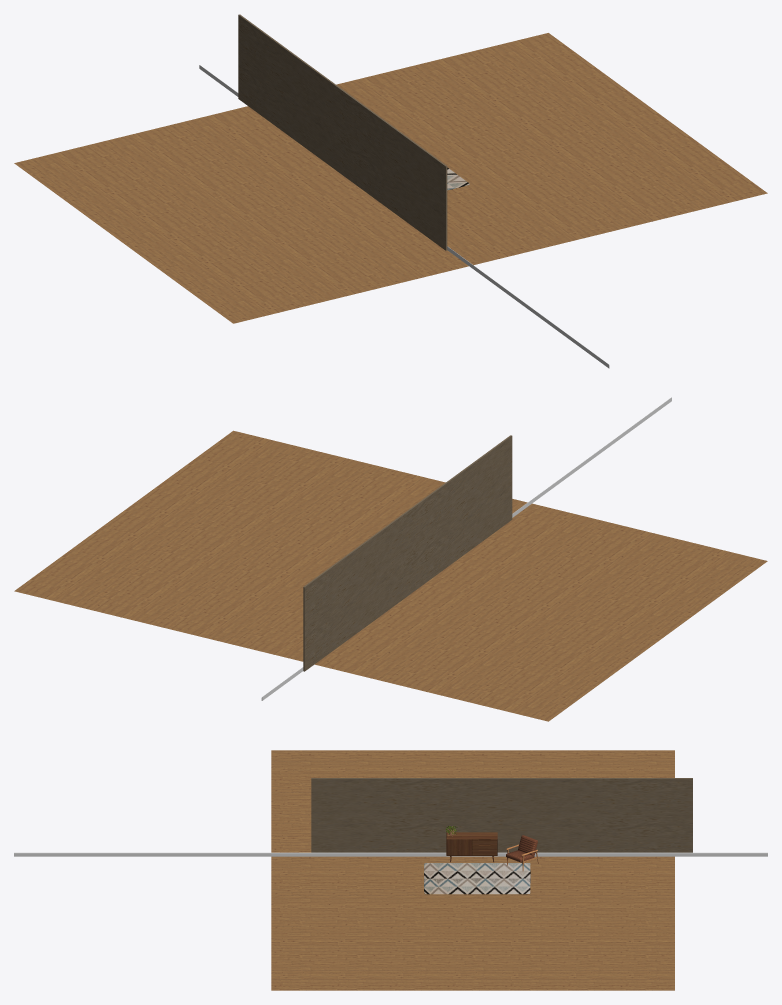
Rendered from displate_configurator_scene.glb.
The picture shows the model from 3 angles, top to bottom: view 1: azimuth 30°, elevation 25°; view 2: azimuth 150°, elevation 25°; view 3: azimuth 270°, elevation 25°; orthographic projection. The views are drawn at different scales.
Visible parts, largest first — view 1: Plane, Cube, Cube.001; view 2: Plane, Cube, Cube.001; view 3: Plane, Cube, Cube.001, Akia_Hand_Woven_Wool_Runner_66_x_200cm_PATTERN_0, Jenson_Sideboard_DarkStainOak_DARK_STAIN_OAK_0, Alarice_Accent_Chair_LEATHER_0.
Boxes of the visible parts, <box> form: Plane: <box>14,33,767,323</box>; Cube: <box>238,14,447,250</box>; Cube.001: <box>199,65,609,368</box>; Plane: <box>14,430,767,721</box>; Cube: <box>303,435,512,671</box>; Cube.001: <box>261,397,671,700</box>; Plane: <box>271,750,674,990</box>; Cube: <box>311,778,692,852</box>; Cube.001: <box>14,852,767,856</box>; Akia_Hand_Woven_Wool_Runner_66_x_200cm_PATTERN_0: <box>424,863,530,894</box>; Jenson_Sideboard_DarkStainOak_DARK_STAIN_OAK_0: <box>446,832,497,862</box>; Alarice_Accent_Chair_LEATHER_0: <box>506,835,537,862</box>.
Bounding box in the file's own units: 17.21 × 2.59 × 22.84.
9 materials, 8 textured.
